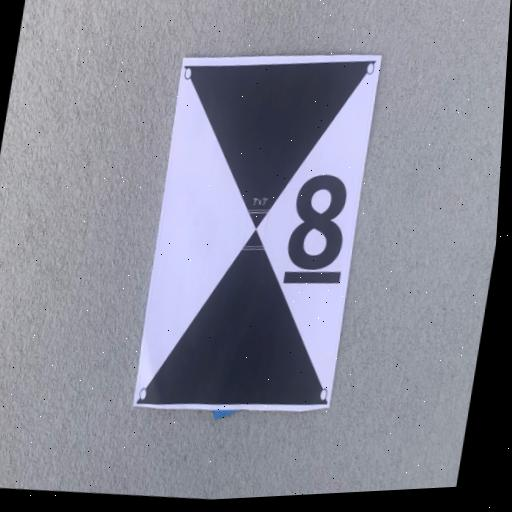target8: (132, 54, 383, 406)
